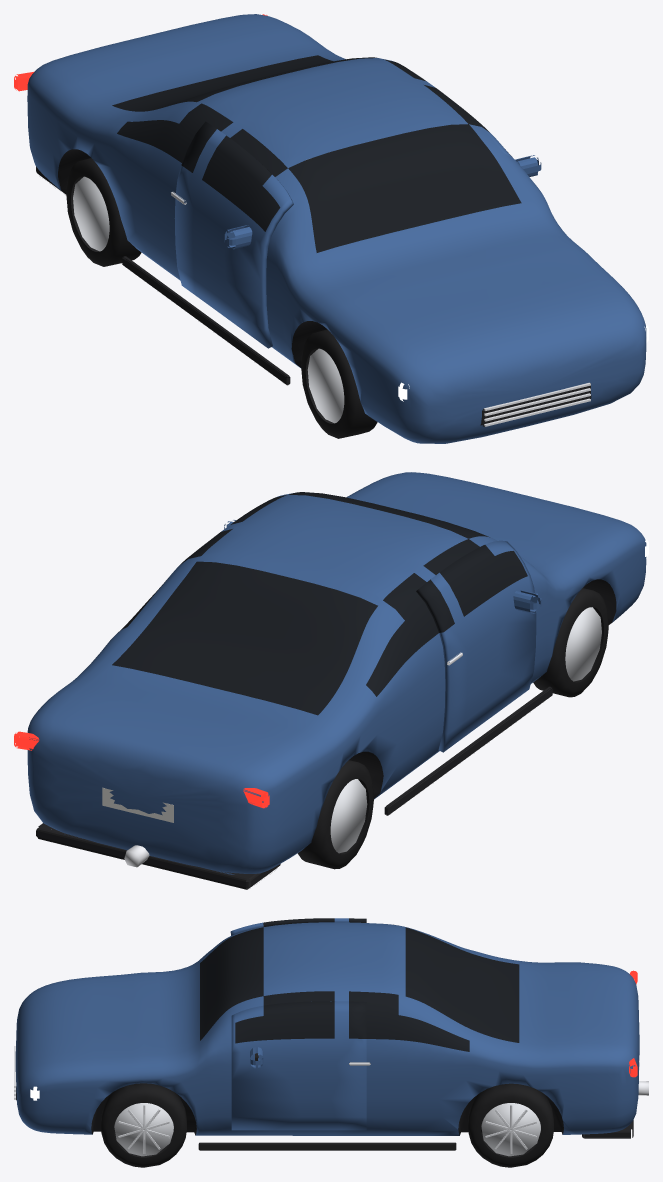
File: meridian.glb
3 renders of one model, top to bottom at view 1: azimuth 30°, elevation 25°; view 2: azimuth 150°, elevation 25°; view 3: azimuth 270°, elevation 25°, orthographic. The views are drawn at different scales.
Visible parts, largest first — view 1: body, door_R, tire.001, tire.003, skirt.001, rim.003, rim.001, grille; view 2: body, door_R, tire.003, tire.001, diffuser, skirt.001, rim.003, rim.001, plate; view 3: body, door_L, tire, tire.002, skirt, rim, rim.002, door_R, diffuser.
Boxes of the visible parts, box(x1,y1,x2,y2) form: body: box(27, 14, 646, 443); door_R: box(174, 121, 293, 348); tire.001: box(301, 329, 377, 438); tire.003: box(66, 158, 141, 266); skirt.001: box(122, 256, 290, 385); rim.003: box(73, 176, 109, 251); rim.001: box(307, 348, 344, 423); grille: box(480, 383, 591, 426); body: box(27, 472, 646, 874); door_R: box(416, 540, 536, 752); tire.003: box(297, 760, 373, 869); tire.001: box(533, 588, 608, 697); diffuser: box(36, 823, 280, 889); skirt.001: box(384, 686, 552, 815); rim.003: box(330, 779, 367, 853); rim.001: box(565, 607, 601, 681); plate: box(102, 787, 173, 822); body: box(15, 922, 639, 1135); door_L: box(231, 1001, 366, 1130); tire: box(101, 1083, 186, 1167); tire.002: box(468, 1083, 553, 1167); skirt: box(198, 1142, 456, 1150); rim: box(114, 1103, 173, 1156); rim.002: box(481, 1103, 540, 1156); door_R: box(230, 918, 366, 1001); diffuser: box(582, 1120, 633, 1138).
Size of what is drawn, in the model's own units: 2.2 by 1.44 by 4.93.
